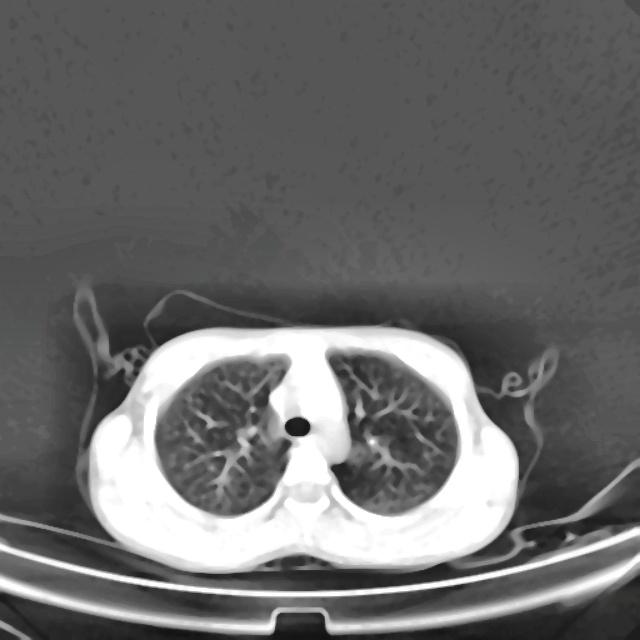covid: (83, 319, 521, 575)
